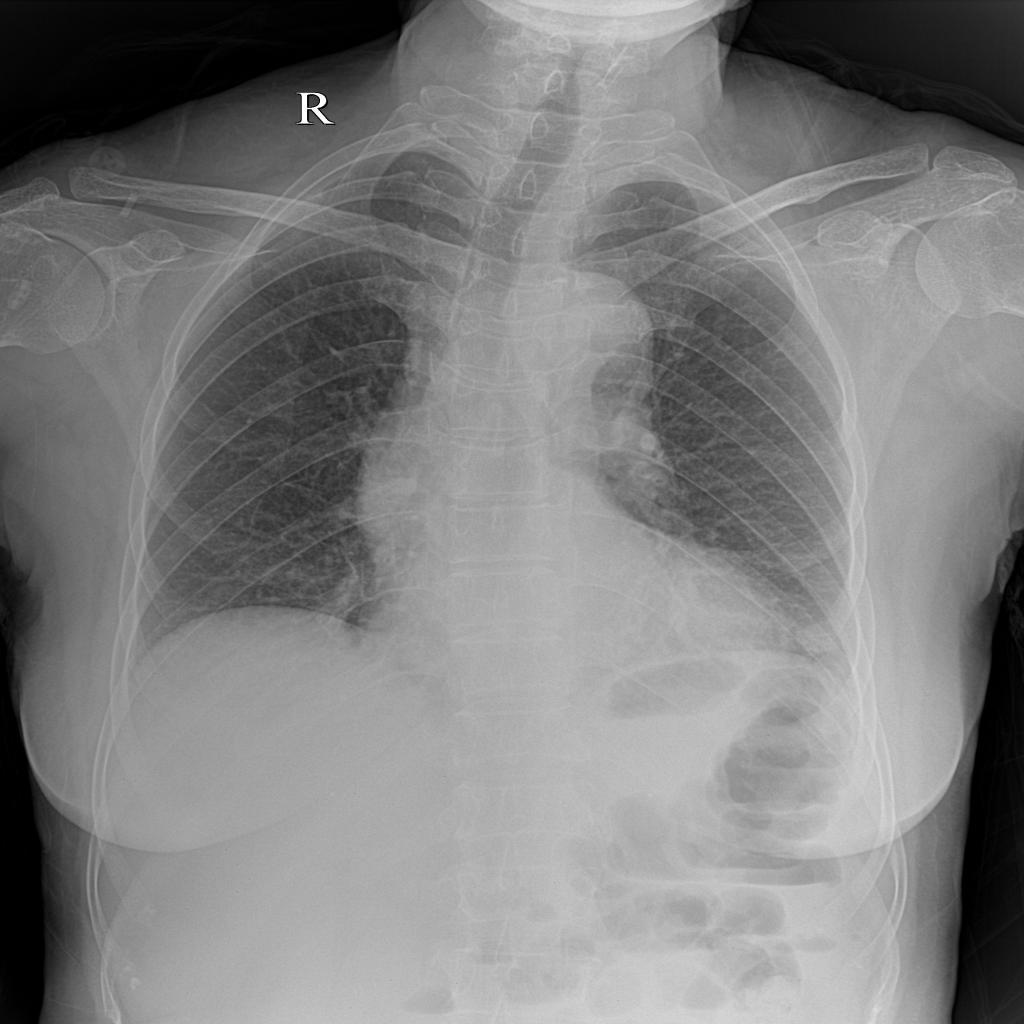Nodule: (747, 574, 863, 713)
